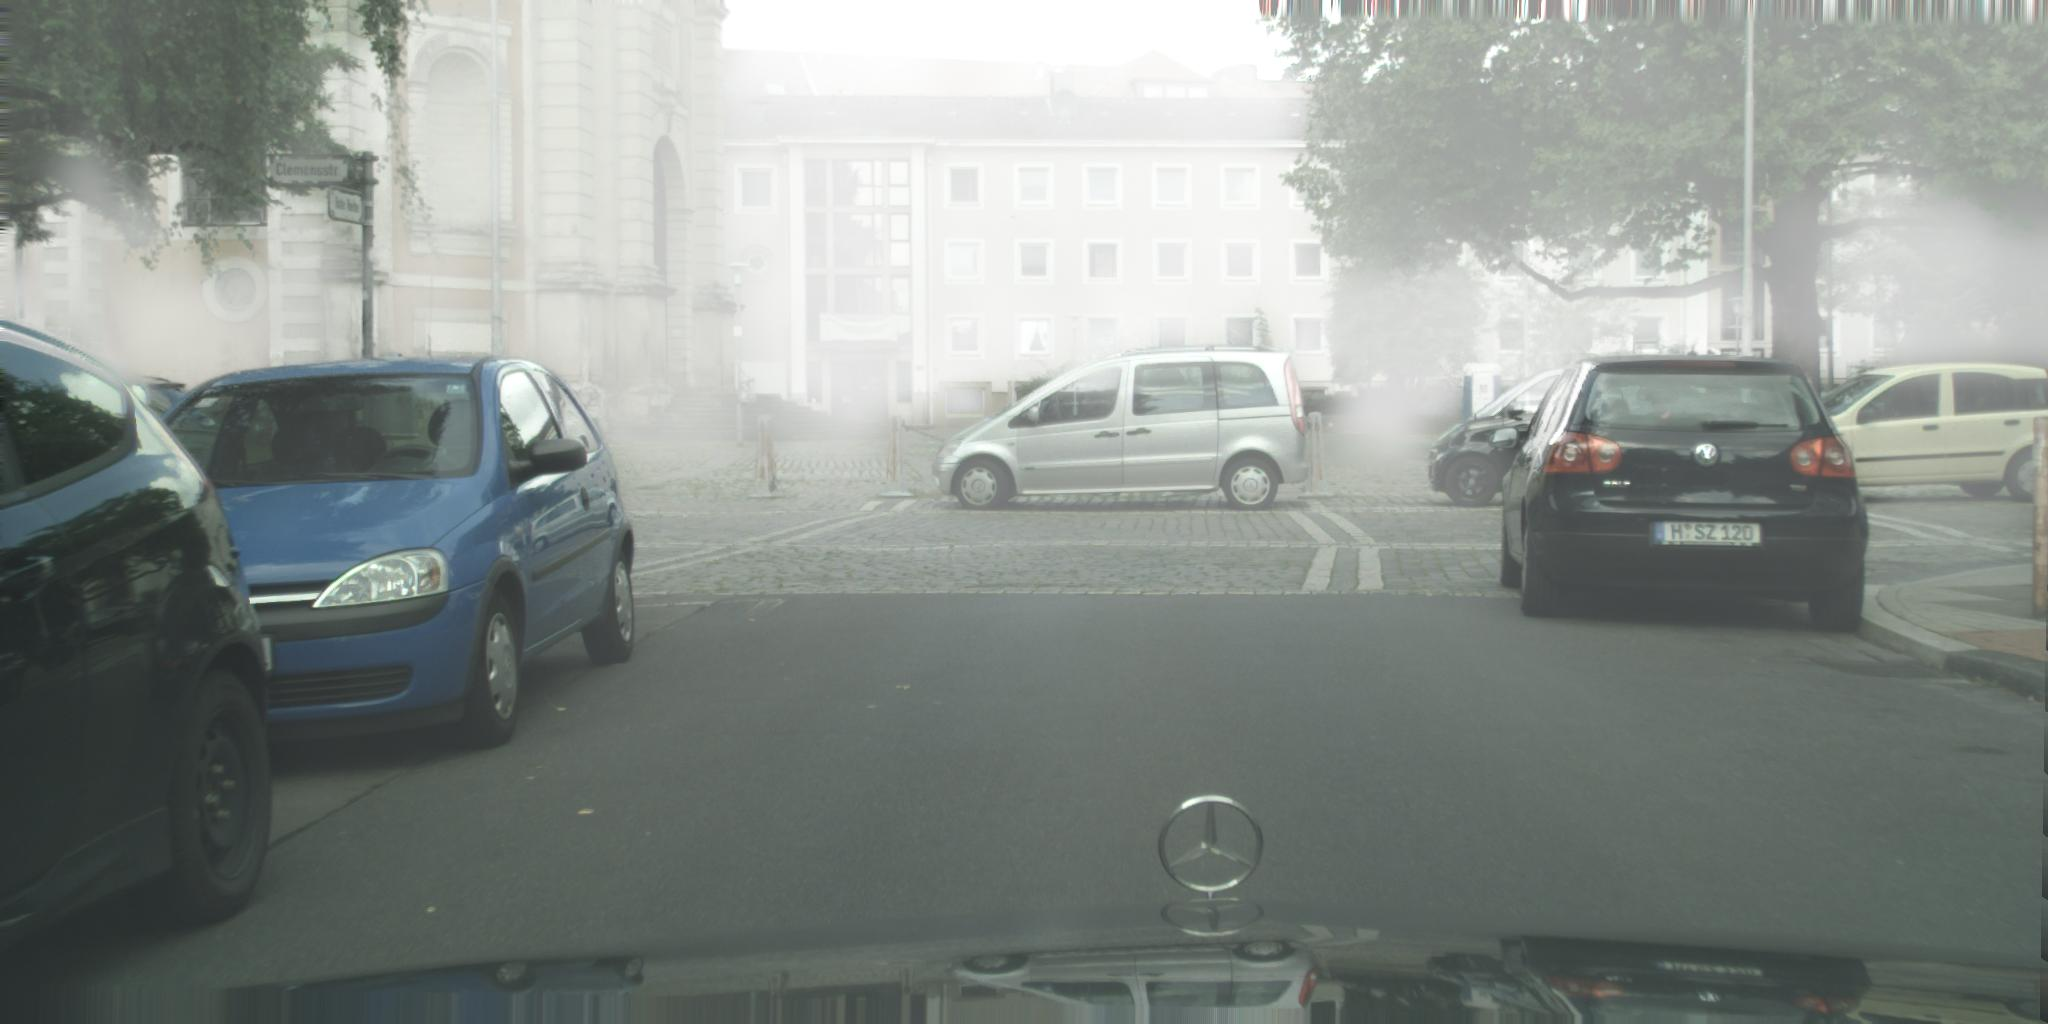car: (115, 355, 636, 750), (1, 319, 273, 965), (1488, 357, 1869, 633), (933, 345, 1309, 512), (1808, 363, 2048, 503), (1429, 368, 1580, 509), (119, 376, 199, 438)
